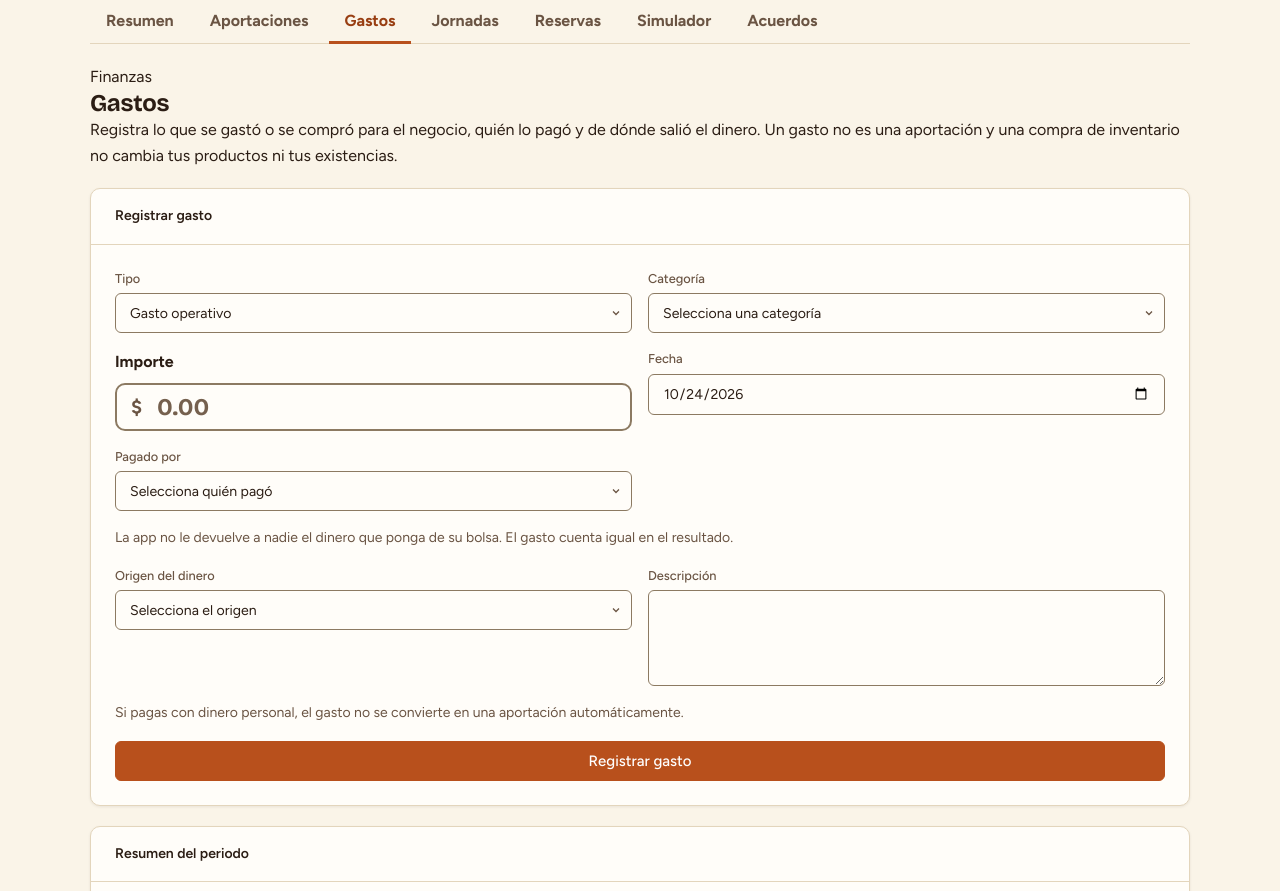
expenses screen › submits integer minor units, business-day midnight and a trimmed description
Select "Transporte" in the dropdown with id "expense-category" at (906, 313), box [648, 293, 1165, 333]
Type "450.50" into the field with id "expense-amount".
click(374, 407); type("450.50")  # box [115, 383, 632, 431]
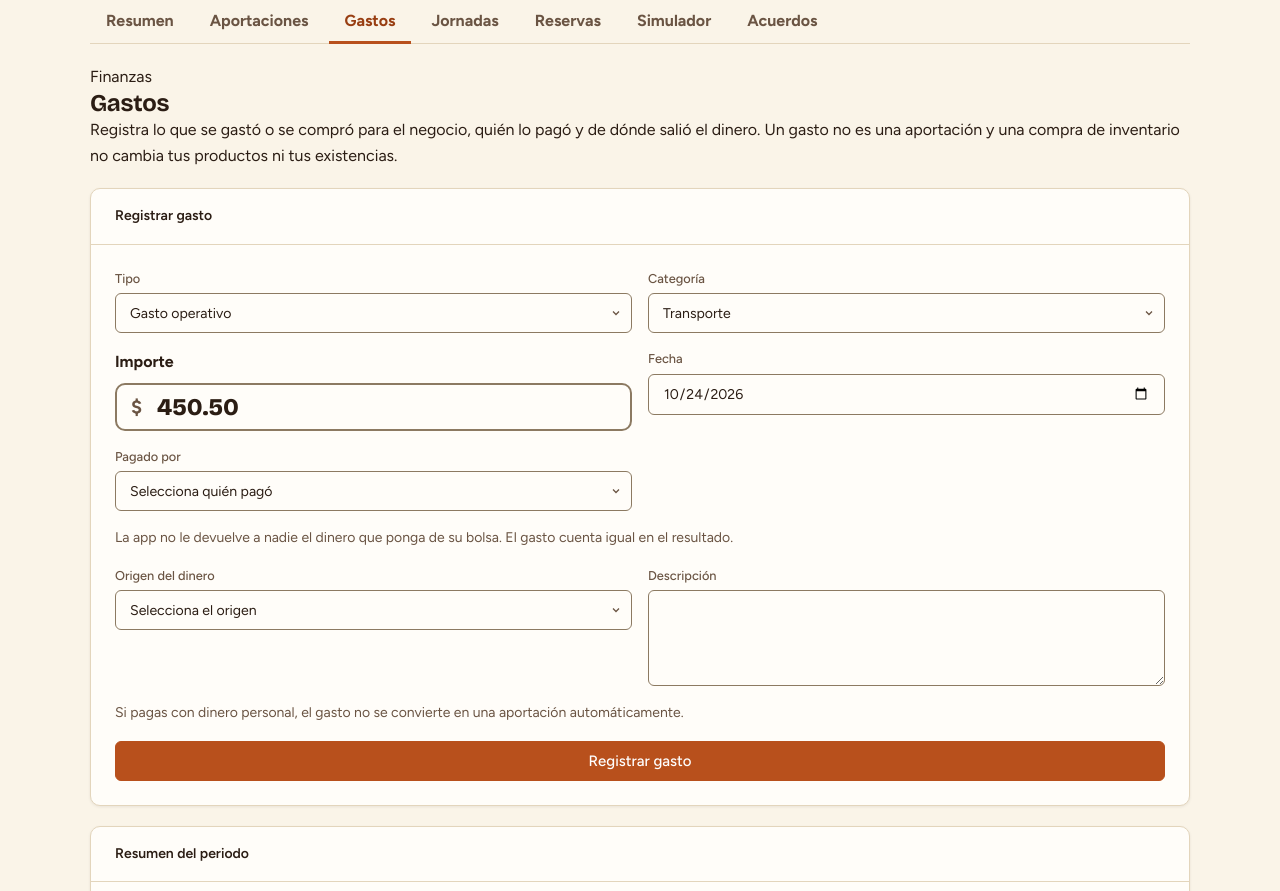
Type "2026-10-01" into the date field with id "expense-date".
click(906, 394); type("2026-10-01")  # box [648, 374, 1165, 415]
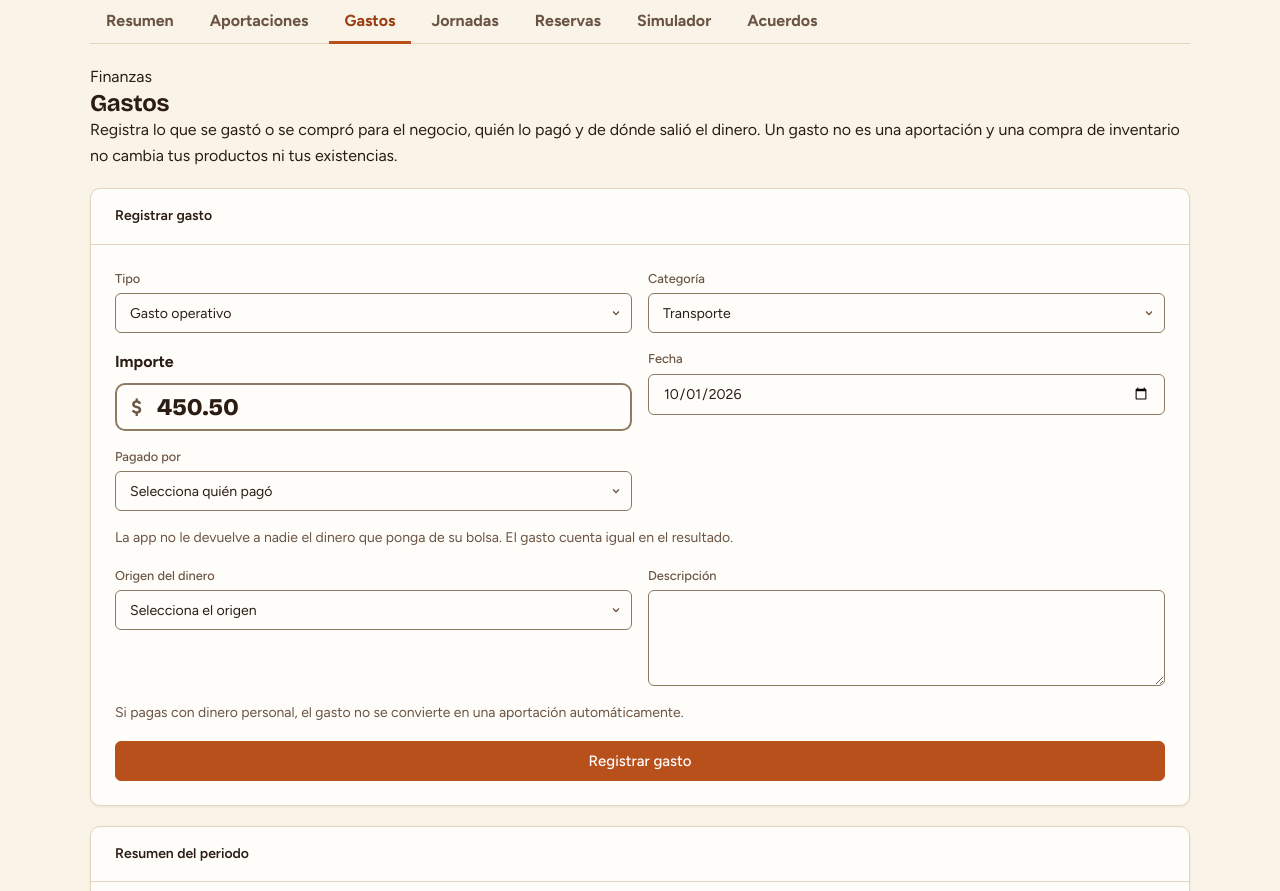
Select "Ana" in the dropdown with id "expense-payer" at (374, 491), box [115, 471, 632, 511]
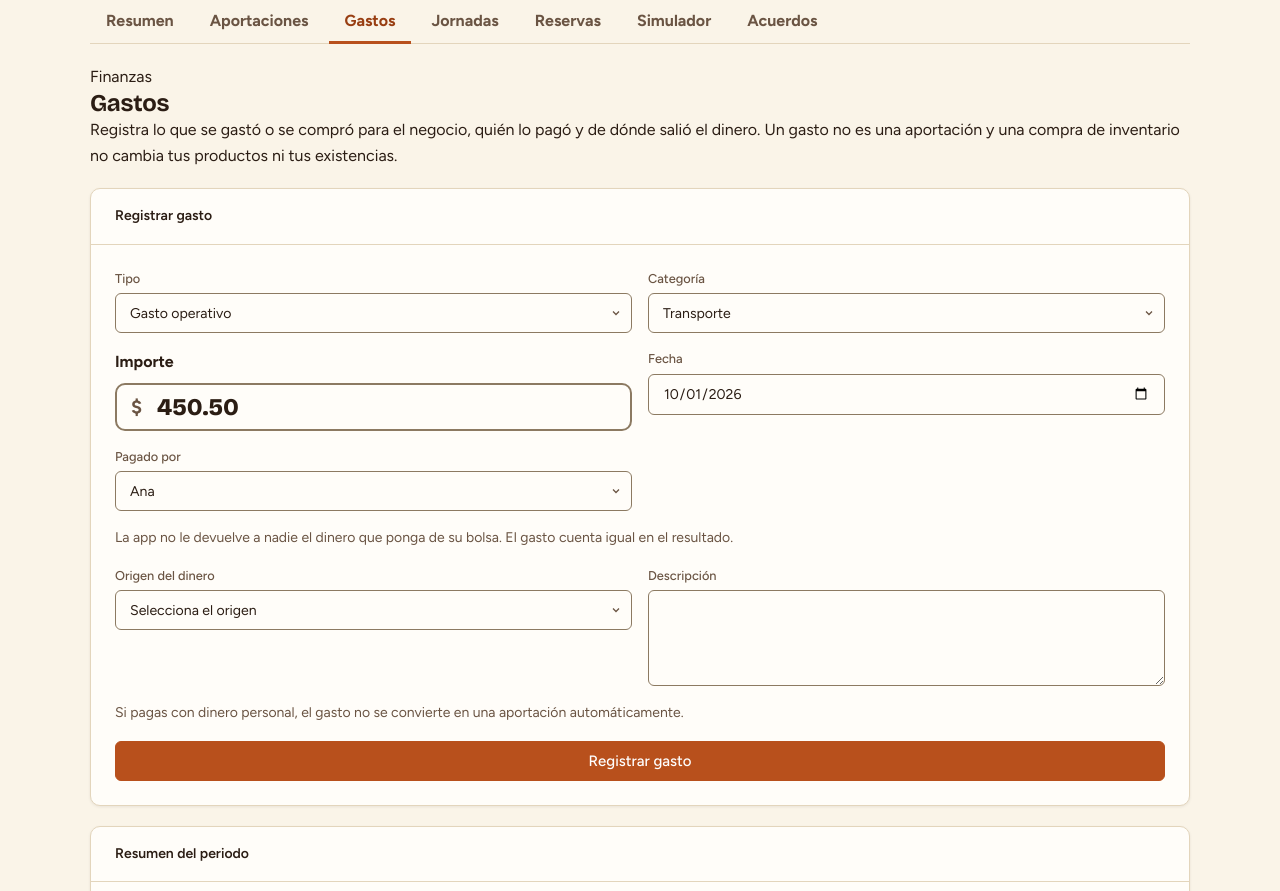
Select "Personal" in the dropdown with id "expense-funds" at (374, 610), box [115, 590, 632, 630]
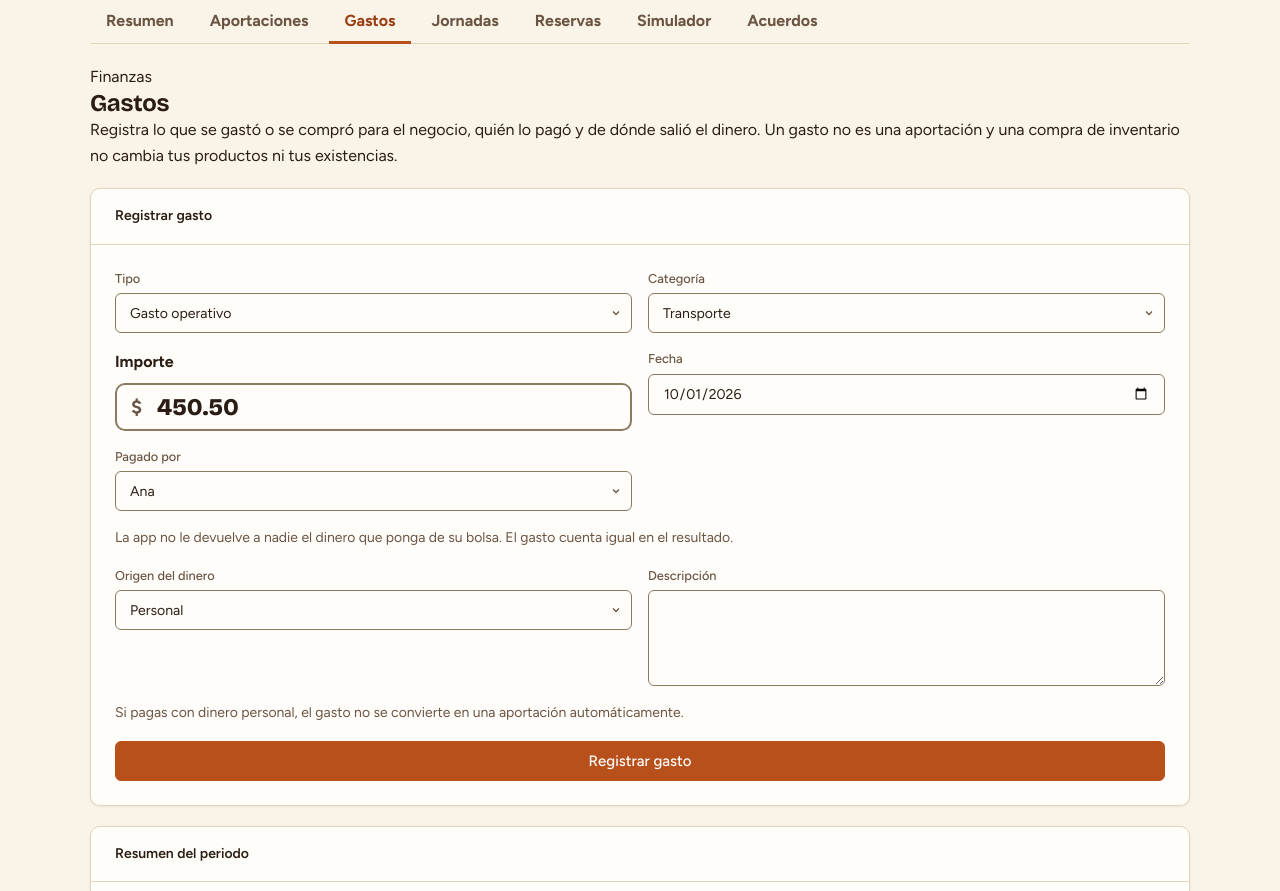
Type "  Flete del bazar  " into the text box with id "expense-description".
click(906, 638); type("  Flete del bazar  ")  # box [648, 590, 1165, 686]
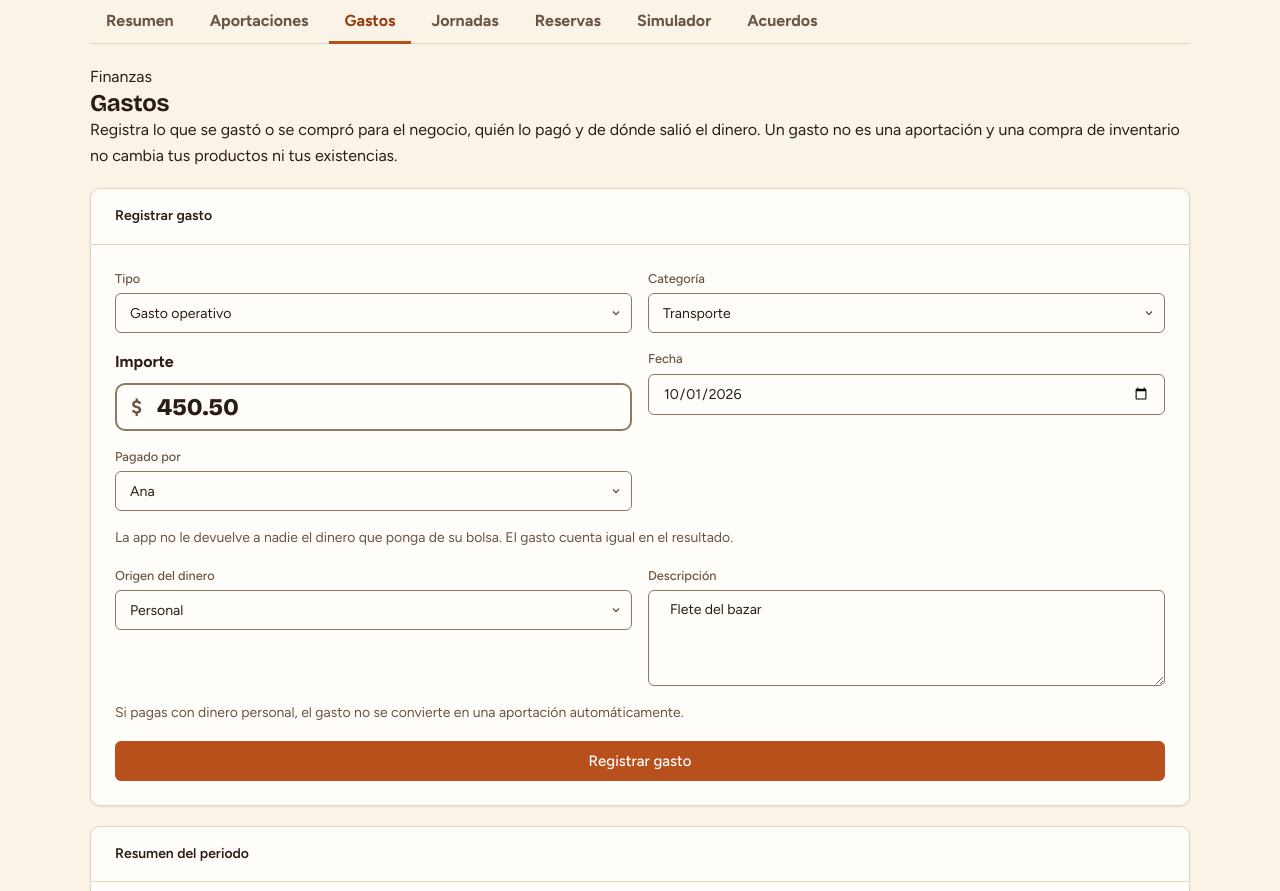
Submit the form with test id "create-form", box [115, 269, 1165, 781]
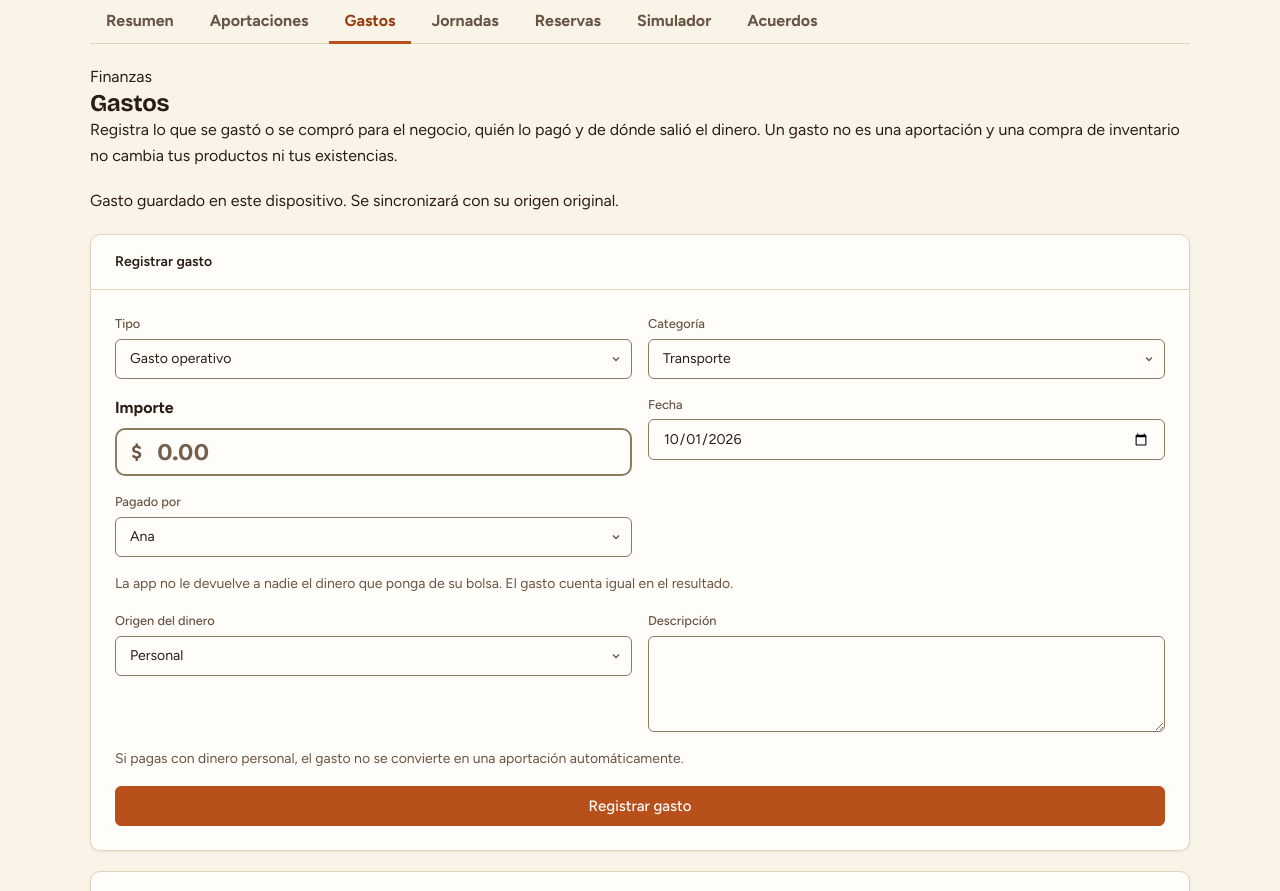
expect the text "Gasto guardado en este dispositivo" is shown: met, box [90, 191, 618, 210]
